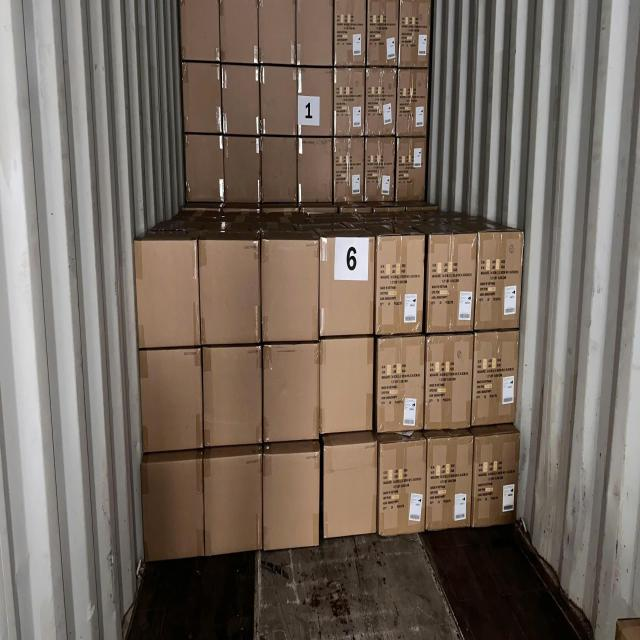Carton: (138, 240, 202, 347), (140, 349, 202, 453), (142, 460, 202, 564), (200, 238, 258, 344), (262, 238, 318, 342), (202, 344, 260, 444), (203, 456, 260, 554), (322, 235, 376, 336), (263, 344, 318, 442), (263, 453, 319, 549), (322, 341, 375, 435), (325, 442, 377, 536), (426, 231, 473, 332), (378, 234, 425, 333), (375, 340, 423, 436), (425, 335, 473, 427), (479, 234, 524, 330), (378, 443, 424, 536), (426, 439, 472, 530), (472, 329, 516, 422), (475, 436, 518, 526)
